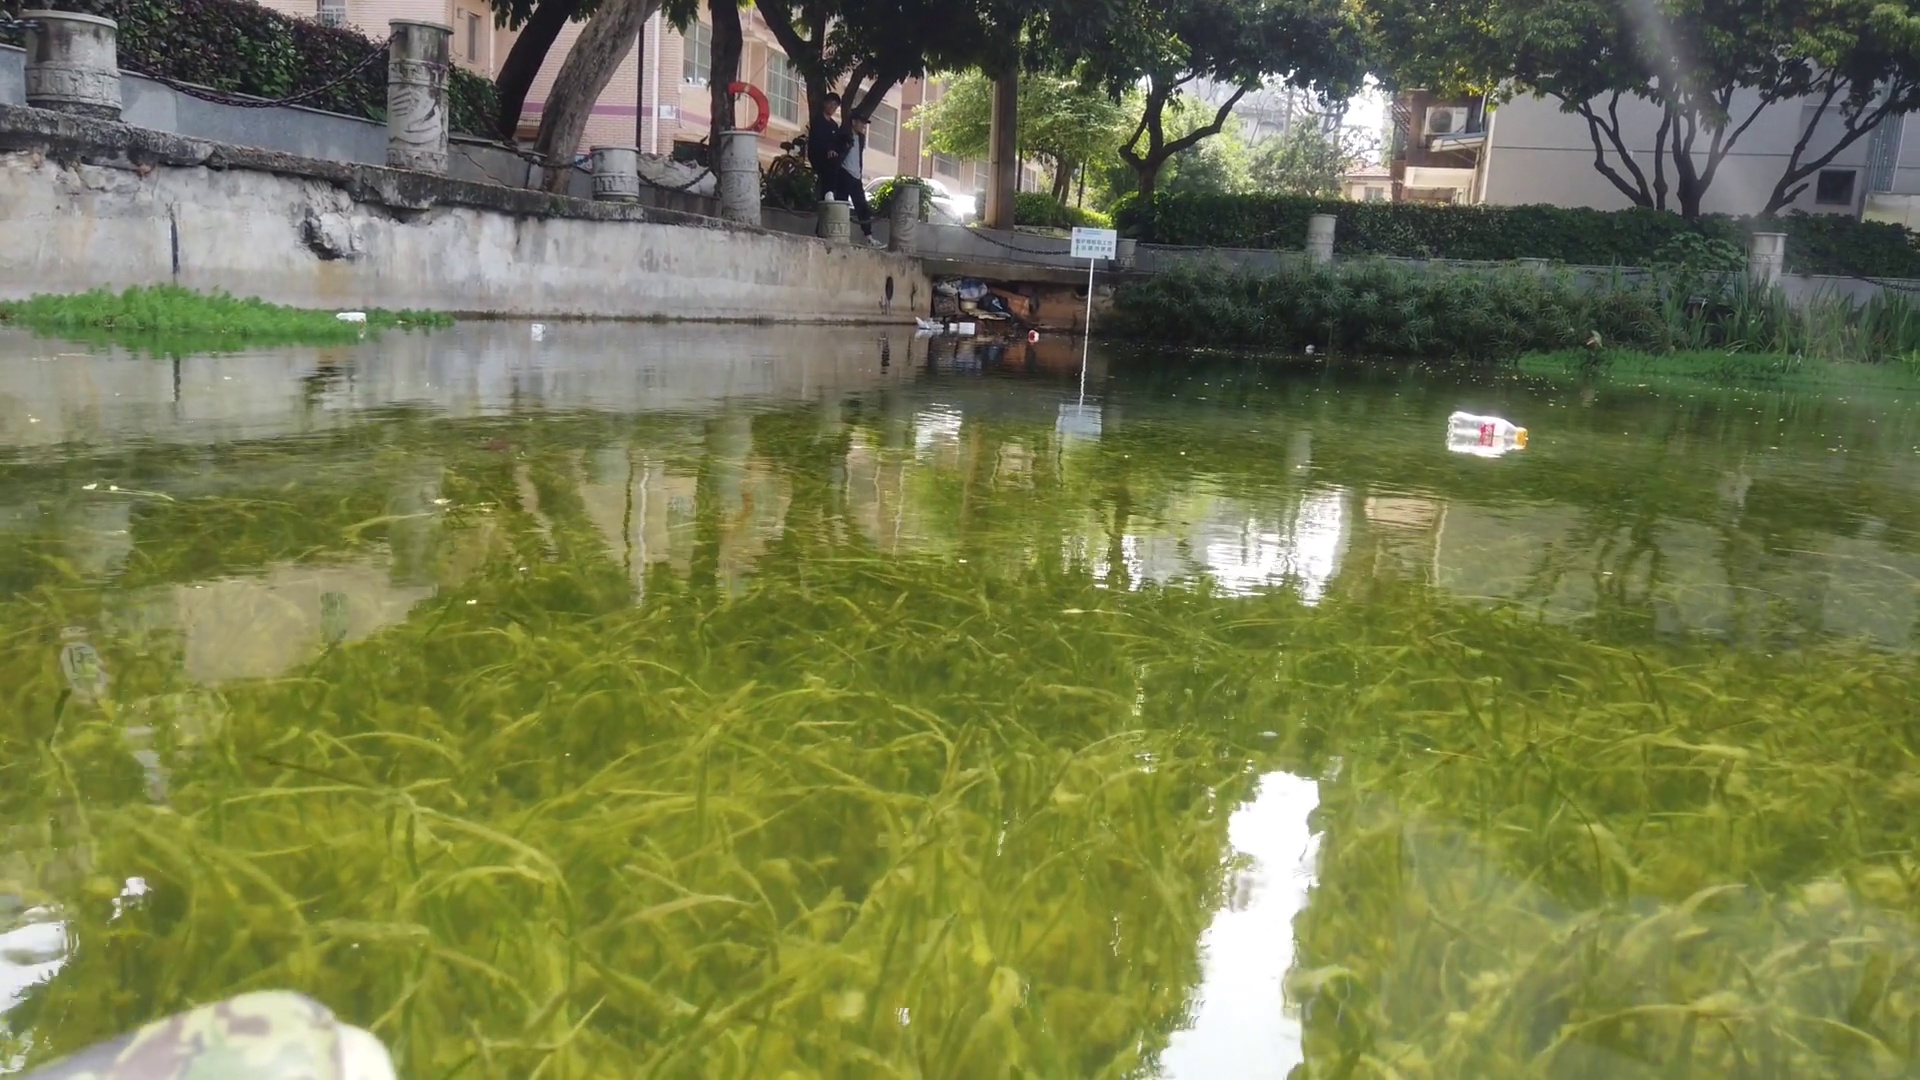bottle: (1447, 411, 1528, 443), (1027, 326, 1040, 338), (1305, 342, 1315, 351)
carton: (335, 313, 364, 326), (531, 323, 546, 334), (959, 320, 973, 328), (949, 324, 955, 330)
plastic: (913, 316, 949, 330)
